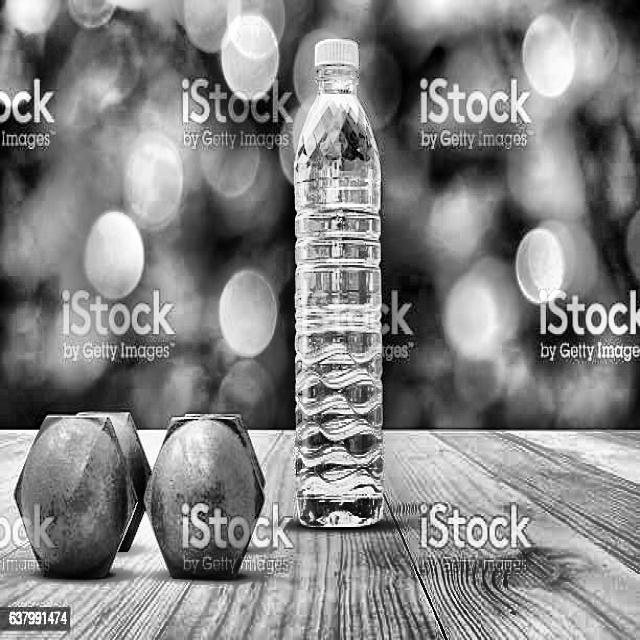waterbottle: (288, 26, 392, 533)
